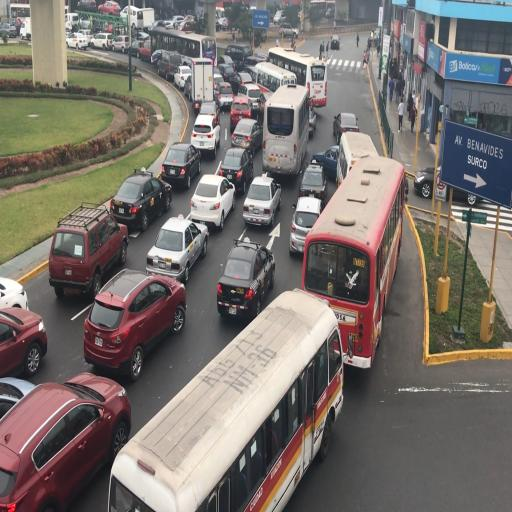auto: (1, 375, 129, 511), (84, 269, 184, 376), (48, 204, 126, 298), (216, 235, 278, 322), (146, 215, 207, 283), (110, 170, 170, 234), (0, 303, 48, 382), (414, 165, 484, 204), (190, 173, 234, 229), (242, 172, 280, 228), (288, 194, 324, 252), (0, 375, 38, 429), (217, 145, 255, 196), (161, 142, 201, 190), (190, 112, 220, 158), (235, 79, 269, 119), (230, 117, 262, 156), (310, 144, 339, 182), (0, 273, 27, 312), (191, 77, 217, 115), (229, 98, 254, 134), (333, 112, 358, 144), (195, 100, 219, 132), (219, 66, 242, 94), (214, 80, 234, 112), (215, 54, 237, 80), (120, 4, 141, 27), (234, 70, 255, 92), (243, 54, 266, 74), (110, 34, 131, 54), (92, 32, 114, 51), (184, 73, 198, 101), (66, 32, 87, 50), (138, 39, 154, 62), (278, 22, 300, 38), (98, 0, 121, 15), (76, 28, 95, 46), (0, 19, 17, 38), (64, 12, 79, 31), (78, 13, 93, 31), (177, 20, 196, 33), (151, 20, 170, 32), (151, 48, 165, 64), (272, 9, 286, 25), (250, 52, 268, 64), (169, 15, 186, 27), (77, 0, 95, 11), (135, 31, 150, 43), (217, 16, 229, 30), (330, 34, 340, 50)
bus: (131, 6, 157, 30)
moto: (111, 290, 332, 502), (304, 148, 400, 361), (262, 82, 308, 179), (270, 46, 326, 109), (150, 24, 209, 73), (337, 130, 379, 191), (252, 60, 293, 100), (9, 2, 31, 36), (225, 42, 253, 68), (309, 0, 335, 21)
